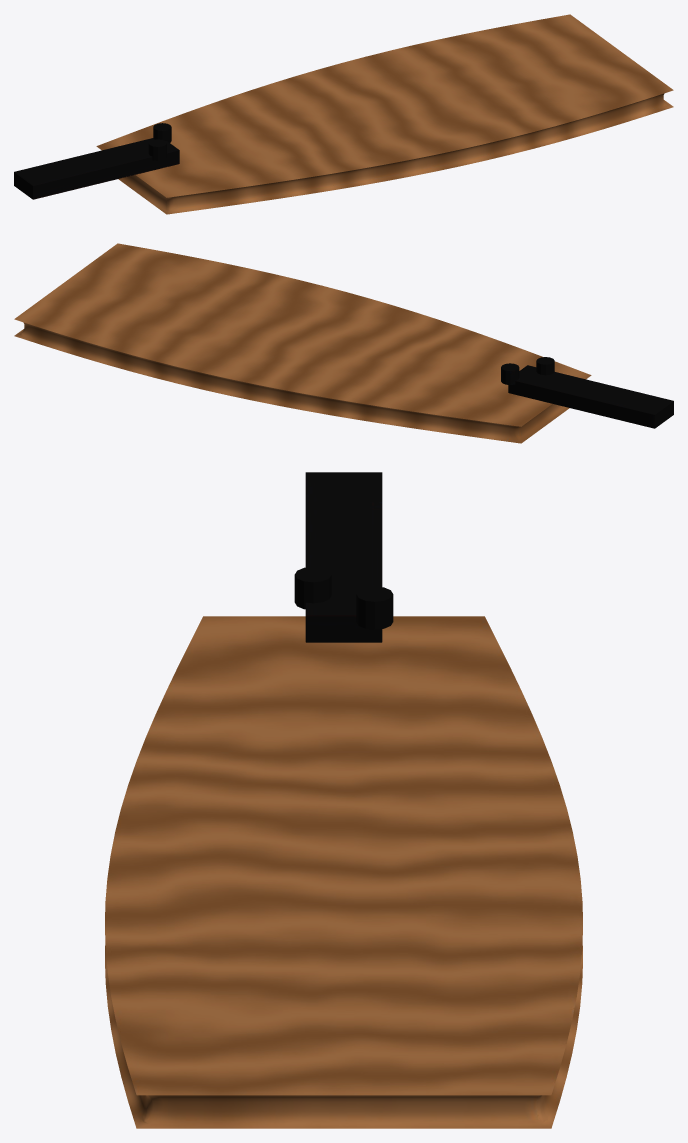
File: fan_blade.glb
3 renders of one model, top to bottom at view 1: azimuth 30°, elevation 25°; view 2: azimuth 150°, elevation 25°; view 3: azimuth 270°, elevation 25°, orthographic. The views are drawn at different scales.
Visible parts, largest first — view 1: fan_blade; view 2: fan_blade; view 3: fan_blade.
Part boxes in pixels (x1,y1,x2,y2): fan_blade: [14, 14, 673, 214]; fan_blade: [14, 243, 673, 443]; fan_blade: [105, 472, 582, 1128].
Bounding box in the file's own units: 0.898 × 0.067 × 0.3106.
Materials: 1 (1 with a texture image).
